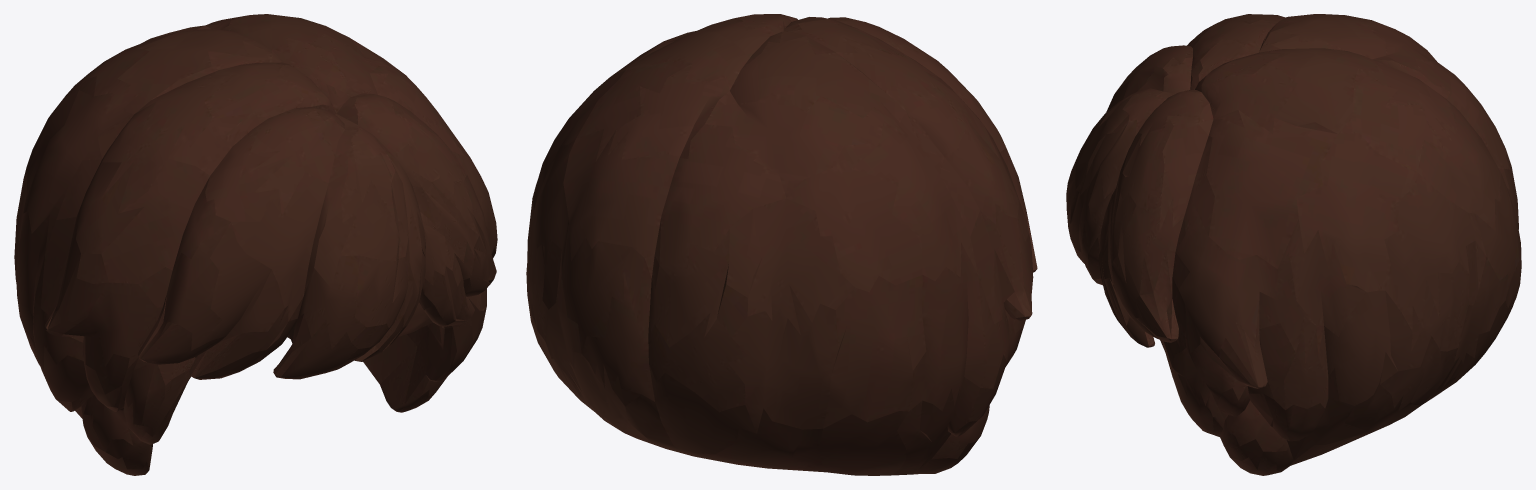
Rendered from hair-mobile.glb.
3 views of the same model, side by side, from view 1: azimuth 30°, elevation 25°; view 2: azimuth 150°, elevation 25°; view 3: azimuth 270°, elevation 25° (orthographic). The views are drawn at different scales.
Visible parts, largest first — view 1: output_unwrapped; view 2: output_unwrapped; view 3: output_unwrapped.
Part boxes in pixels (box(x1,y1,x2,y2)): output_unwrapped: box(14, 14, 497, 475); output_unwrapped: box(526, 14, 1037, 475); output_unwrapped: box(1066, 14, 1521, 475).
Size of the model in its own units: 1.9 by 1.61 by 1.77.
1 material, 1 textured.
